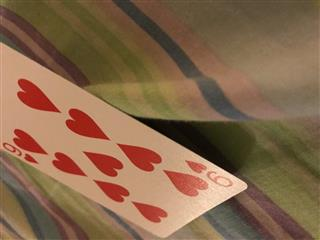NineOfHearts: (1, 40, 248, 238)
